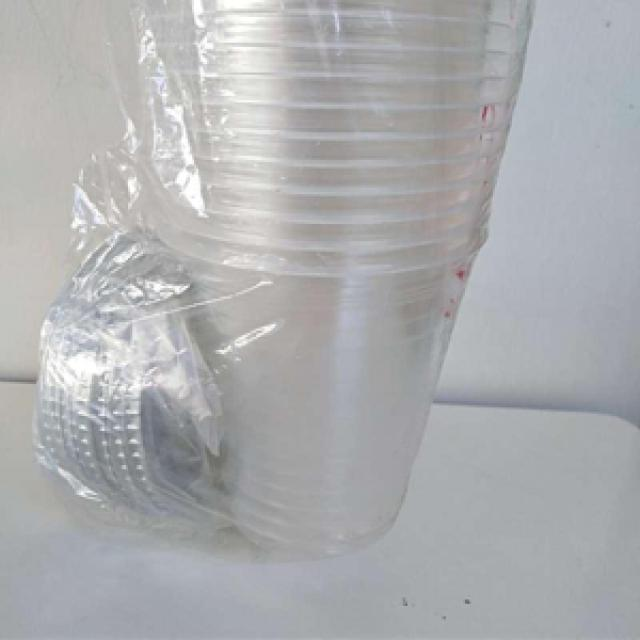plastic cup: (143, 231, 499, 564), (113, 4, 523, 239)
